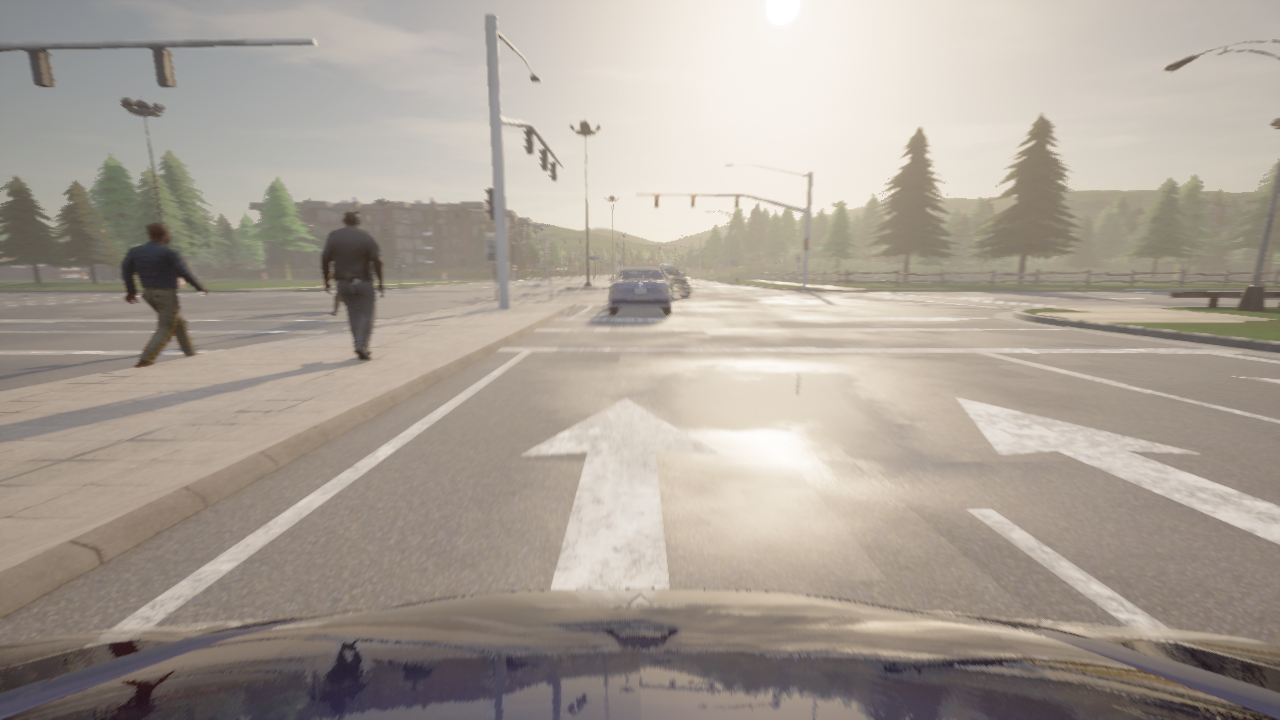cyclist: (0, 588, 1279, 719), (609, 267, 671, 314), (631, 263, 691, 300)
pedestrian: (120, 223, 208, 366), (320, 210, 384, 359), (324, 263, 340, 316)
